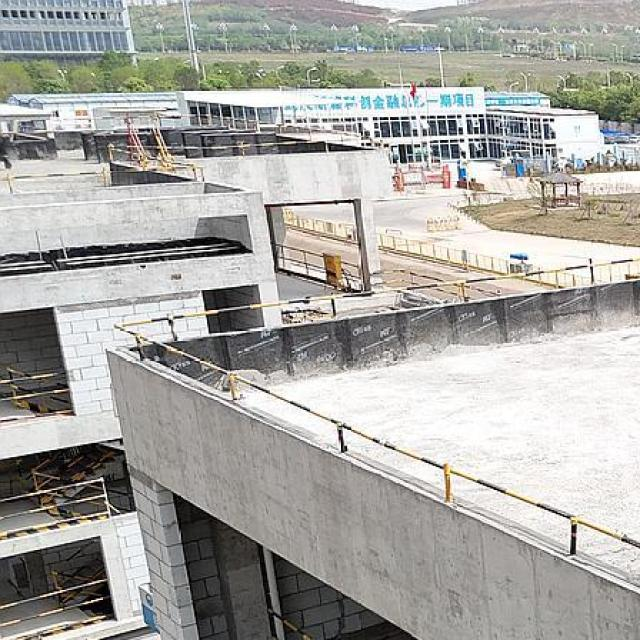edge_guardrail: (114, 257, 640, 560), (56, 114, 386, 156), (0, 141, 206, 193), (0, 577, 114, 640), (0, 476, 111, 537), (274, 243, 364, 291), (0, 369, 73, 422), (370, 270, 499, 296), (267, 608, 316, 640)
